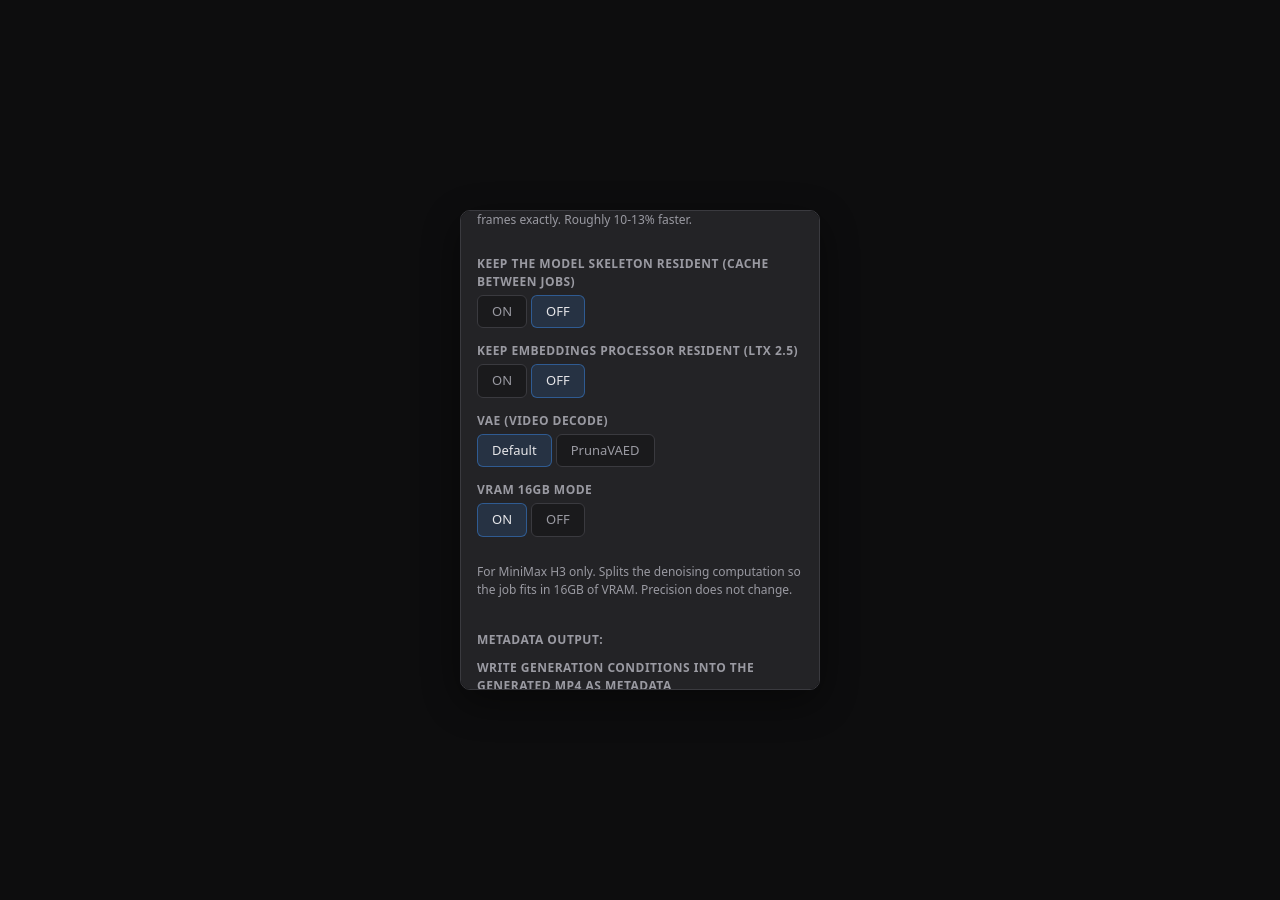
it: SettingsPanel › selecting PrunaVAED moves aria-pressed, shows the quality note, and persists to localStorage (§52)
The width and height of the screenshot is (1280, 900).
(page scrolled)
Click the button "PrunaVAED".
click(605, 450)  # box left=556, top=434, right=655, bottom=467
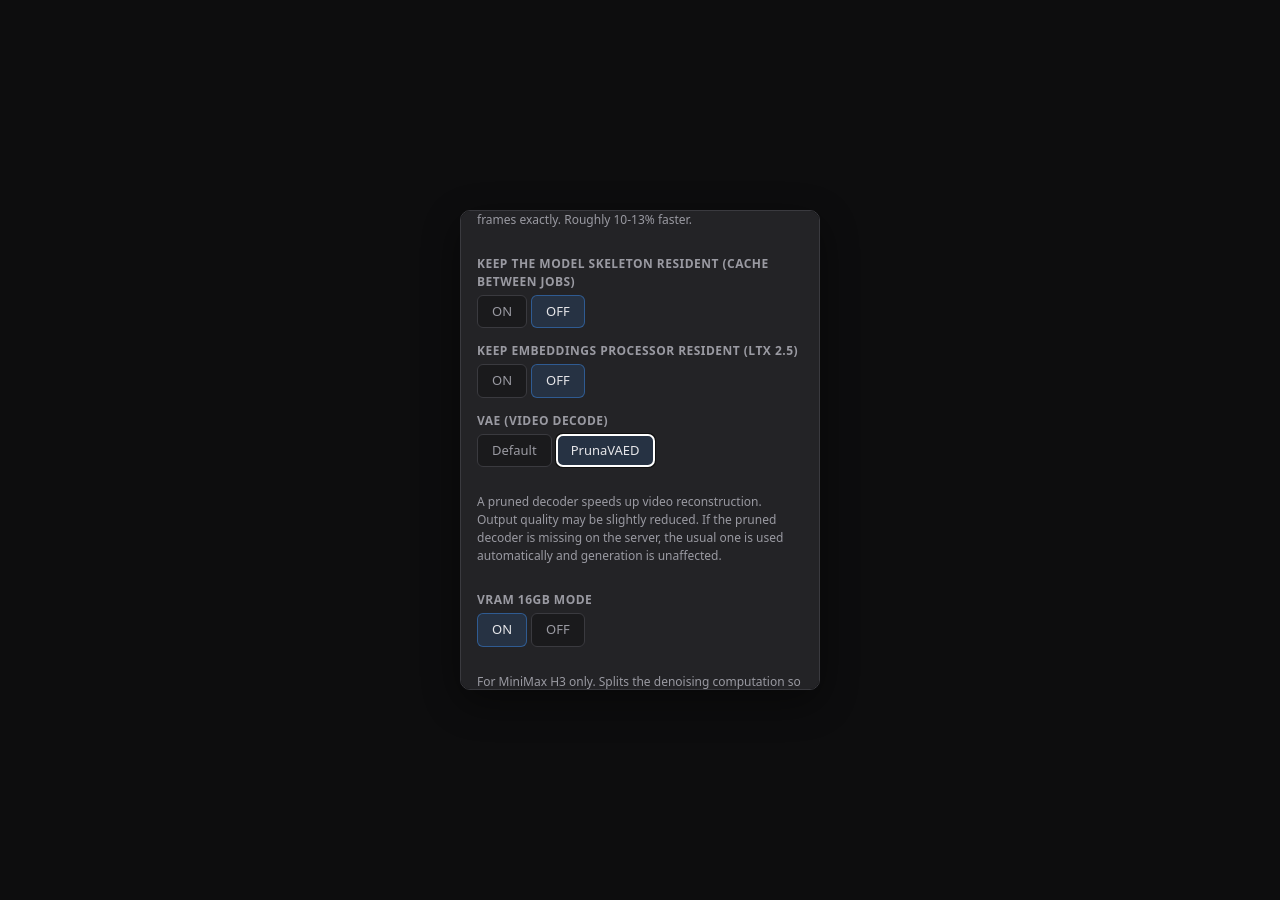
Check: the text "Output quality may be slightly reduced" is shown, box left=477, top=493, right=783, bottom=564
Note: Clicking Default again hides the note and flips aria-pressed back.
Click the button "Default".
click(514, 450)  # box left=477, top=434, right=552, bottom=467
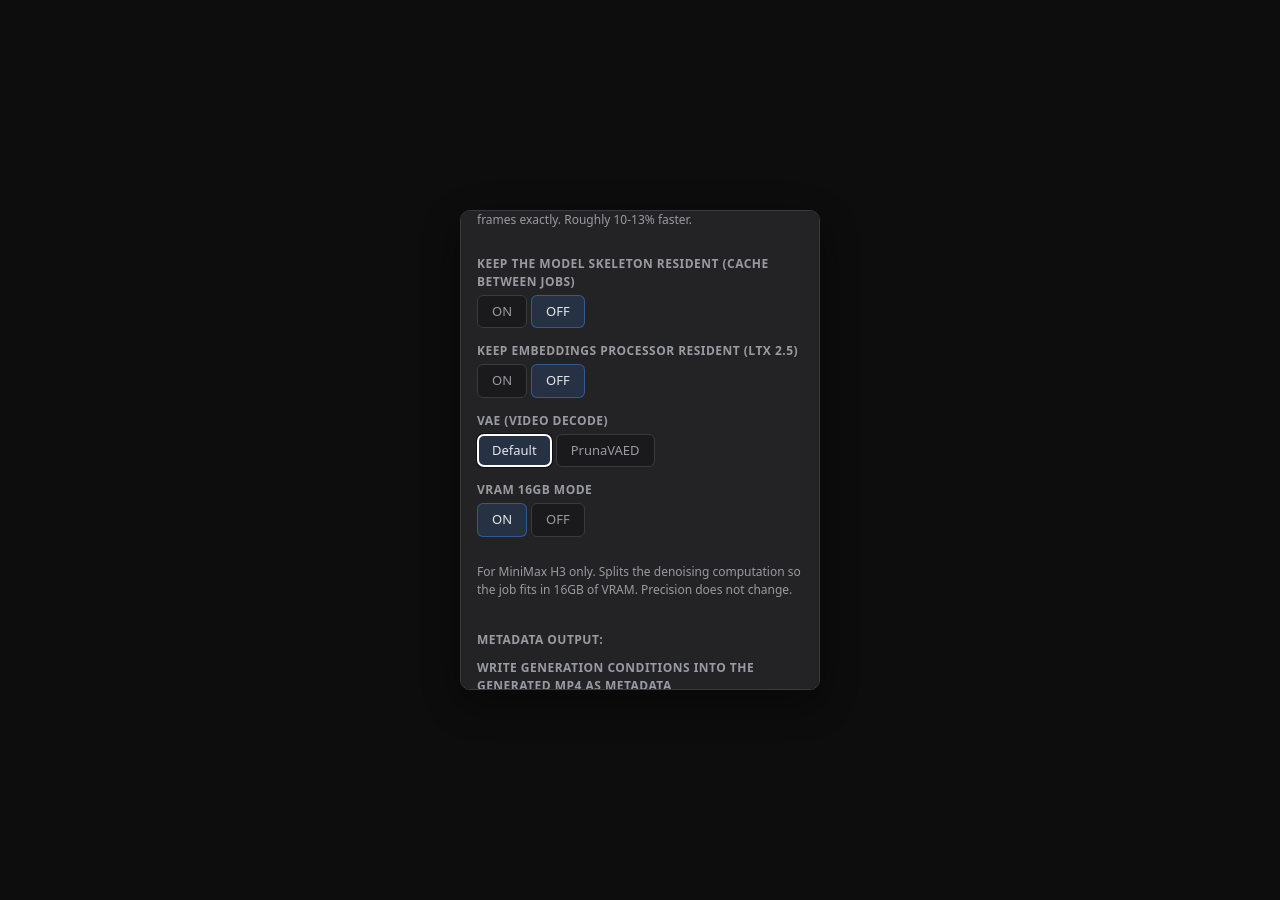
Check: the text "Output quality may be slightly reduced" is gone
